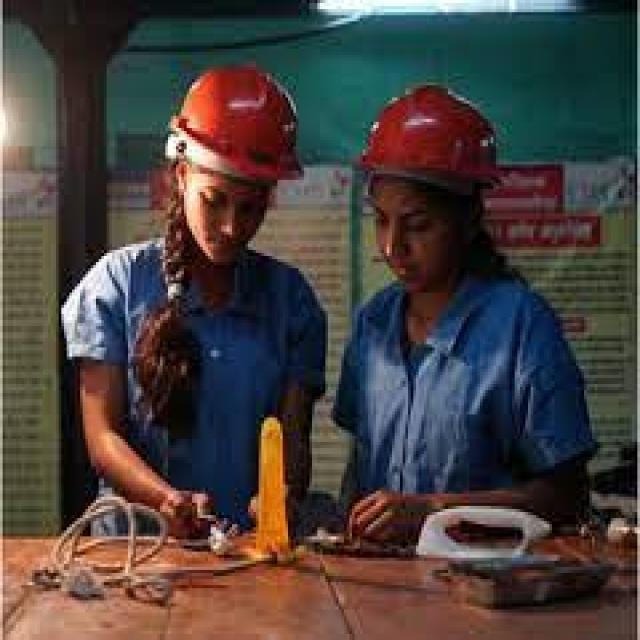safety_helmet: (338, 79, 522, 213), (149, 55, 319, 198)
